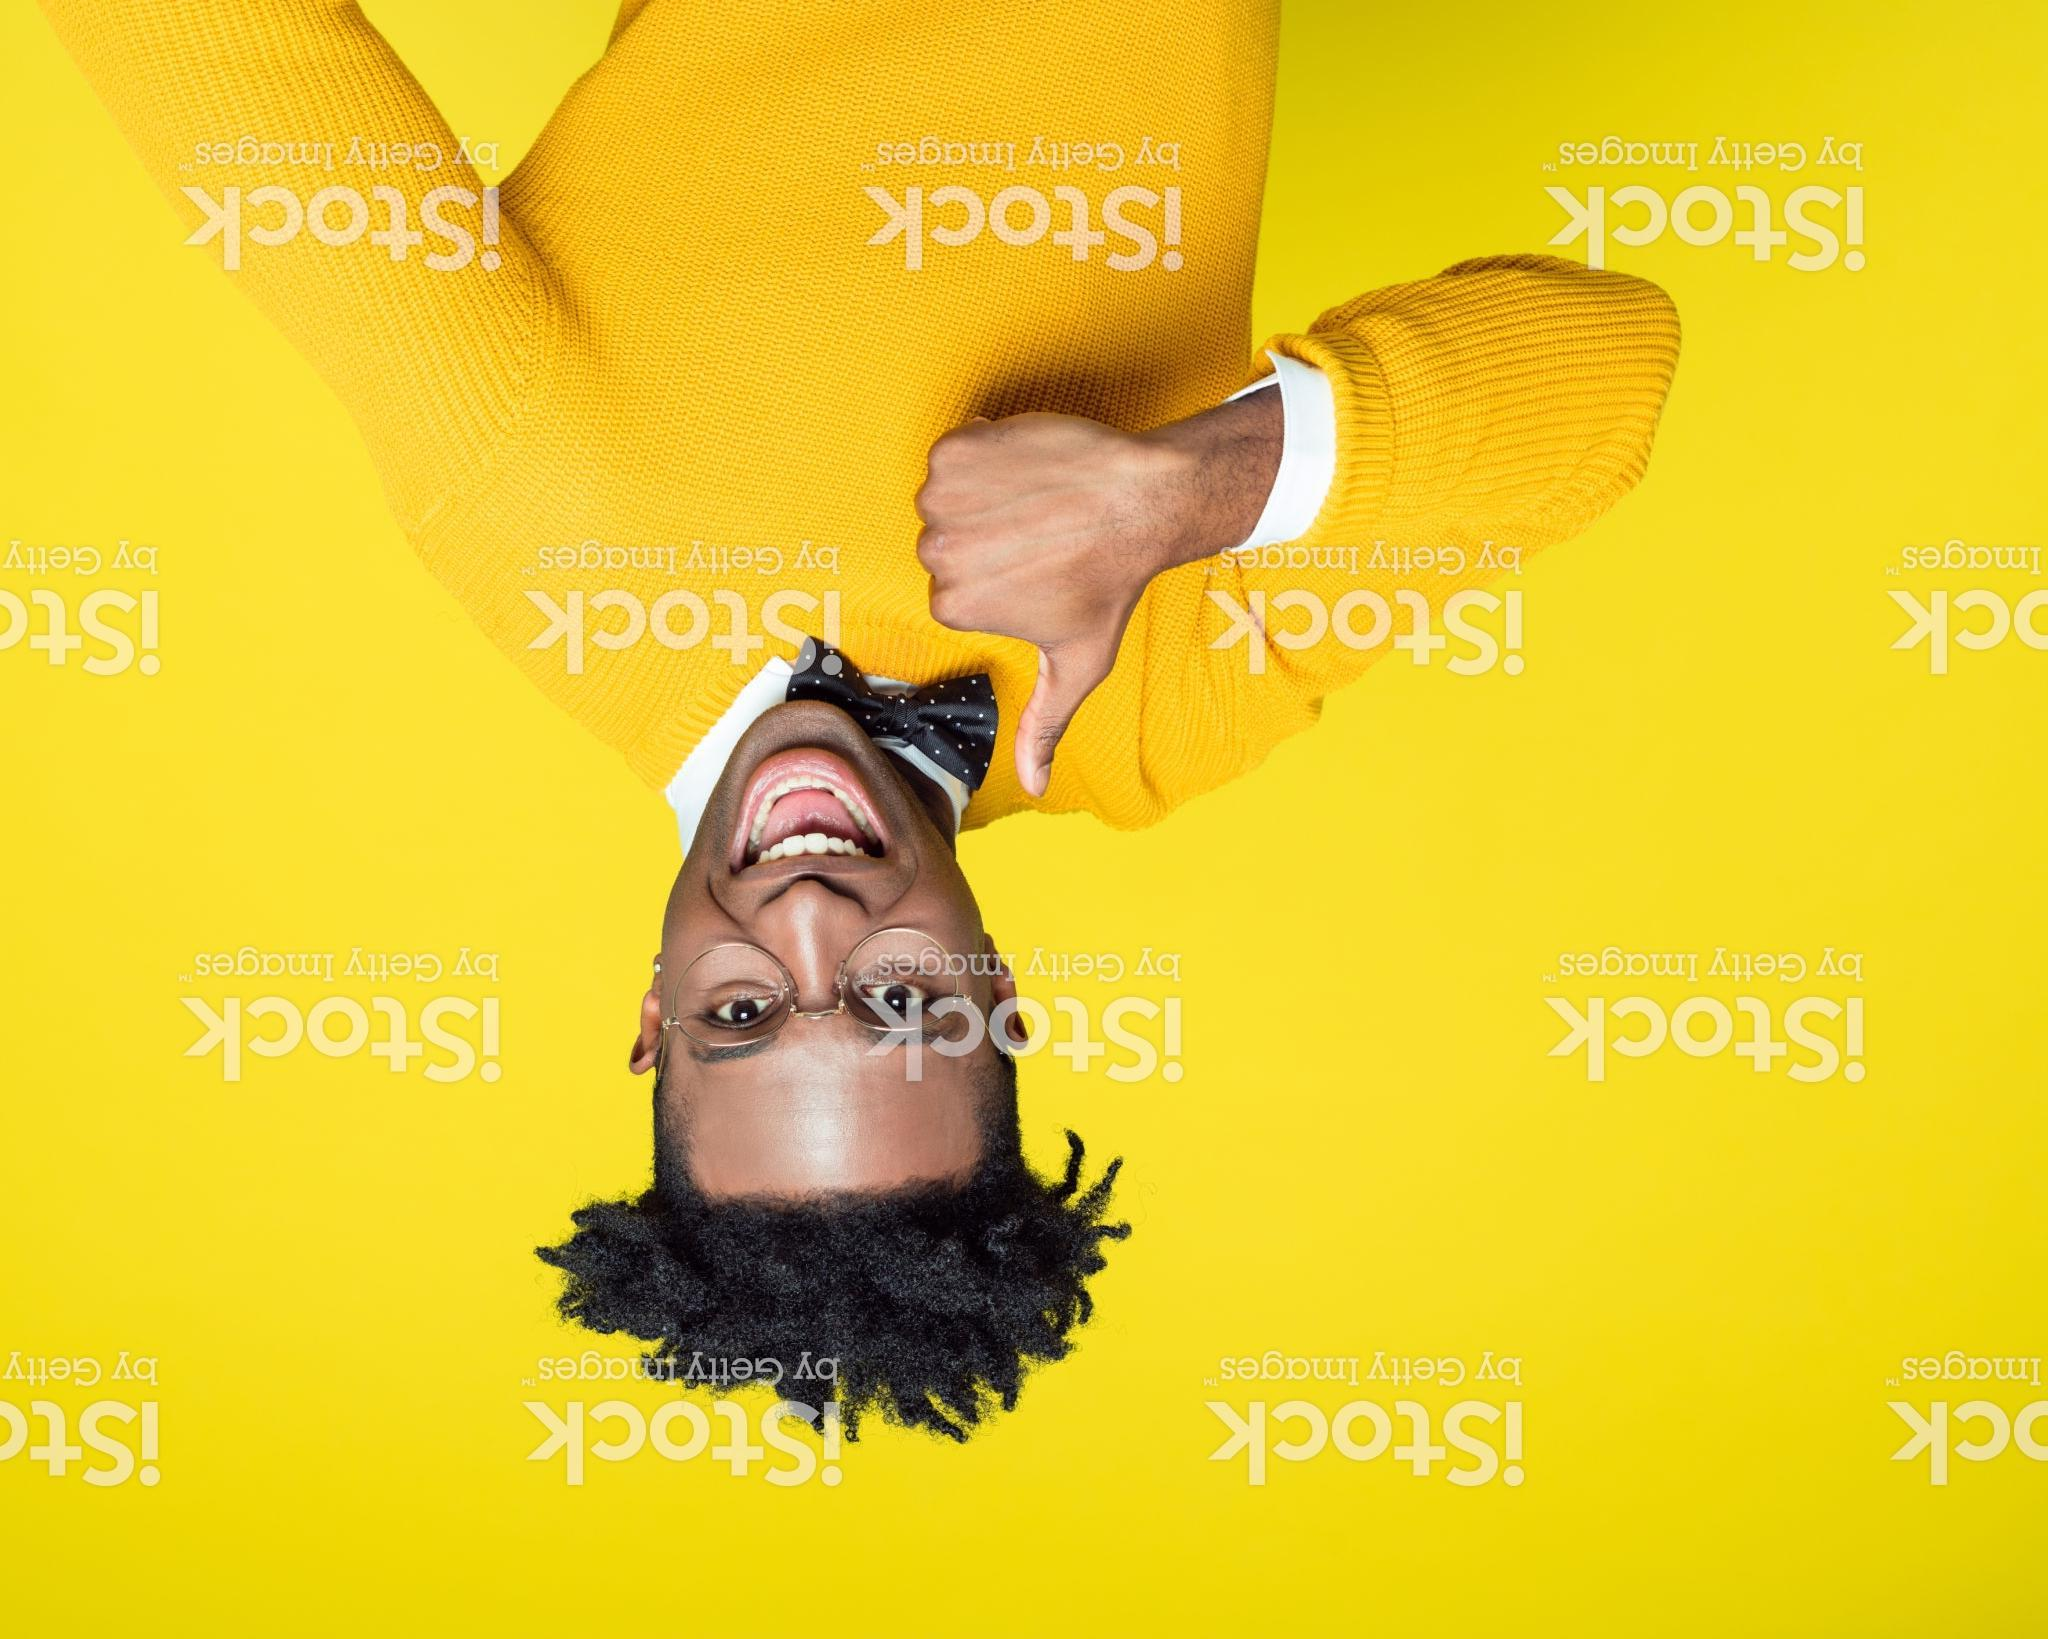thumbsdown: (911, 396, 1165, 803)
